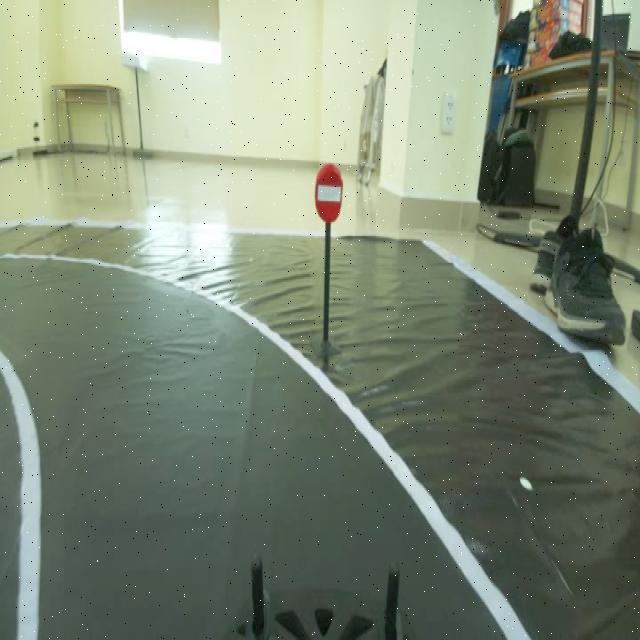no_entry: (304, 147, 344, 233)
